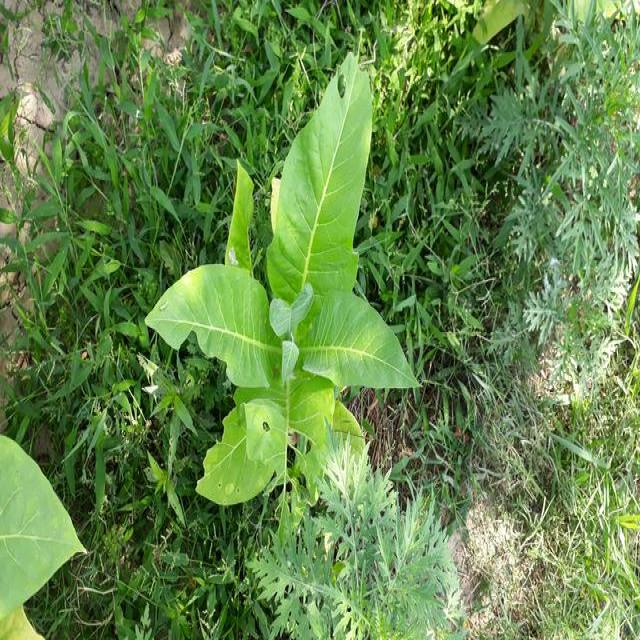crop: (166, 63, 403, 486)
